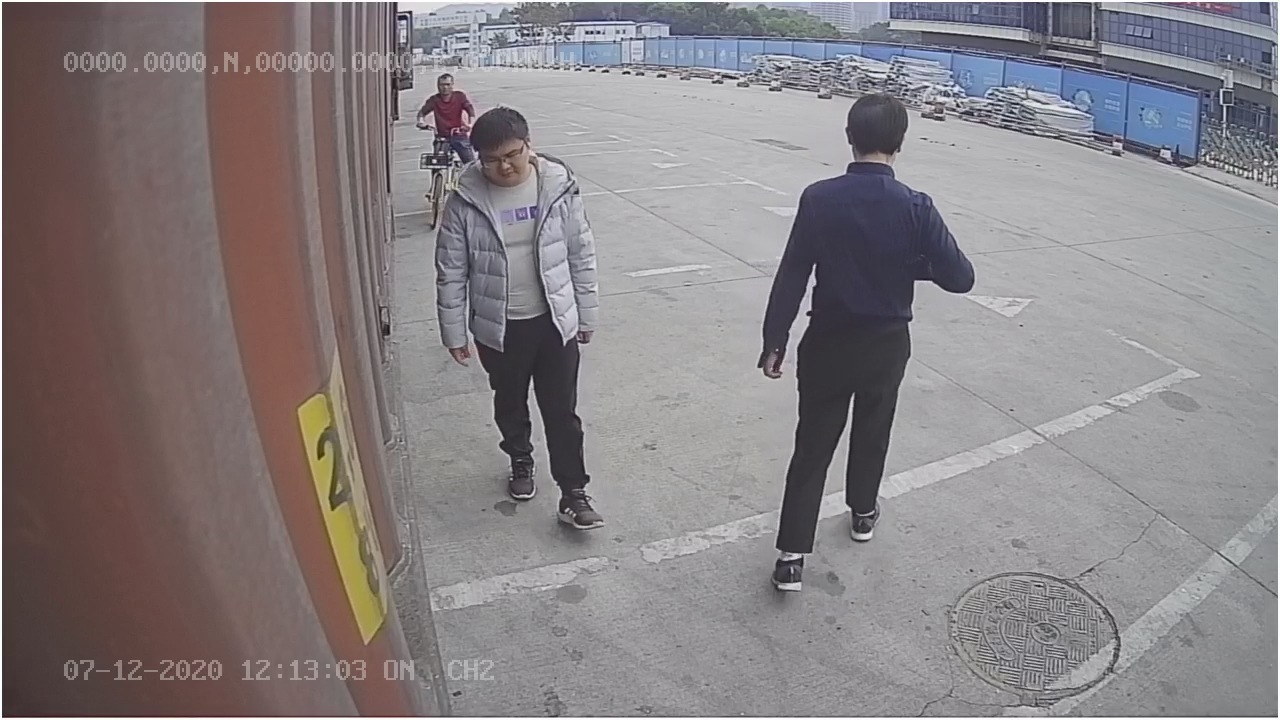person: (757, 90, 978, 595), (422, 98, 623, 542)
